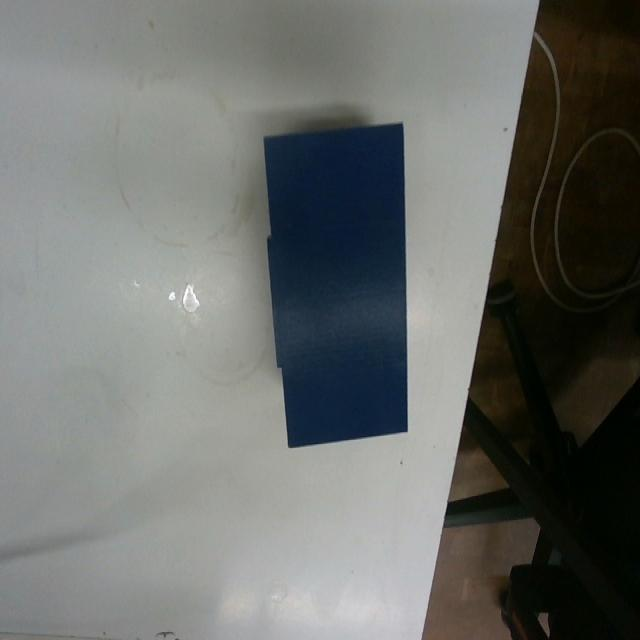Blue Cuboid: (260, 119, 410, 449)
